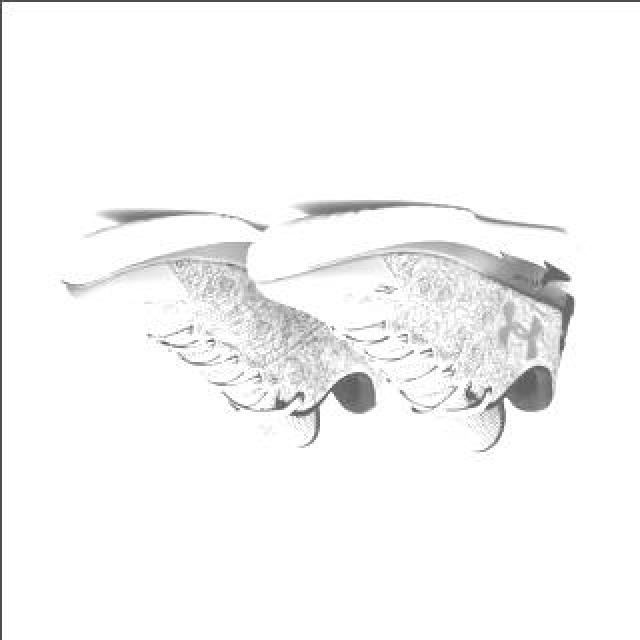shoes: (247, 206, 579, 450), (59, 211, 395, 447)
